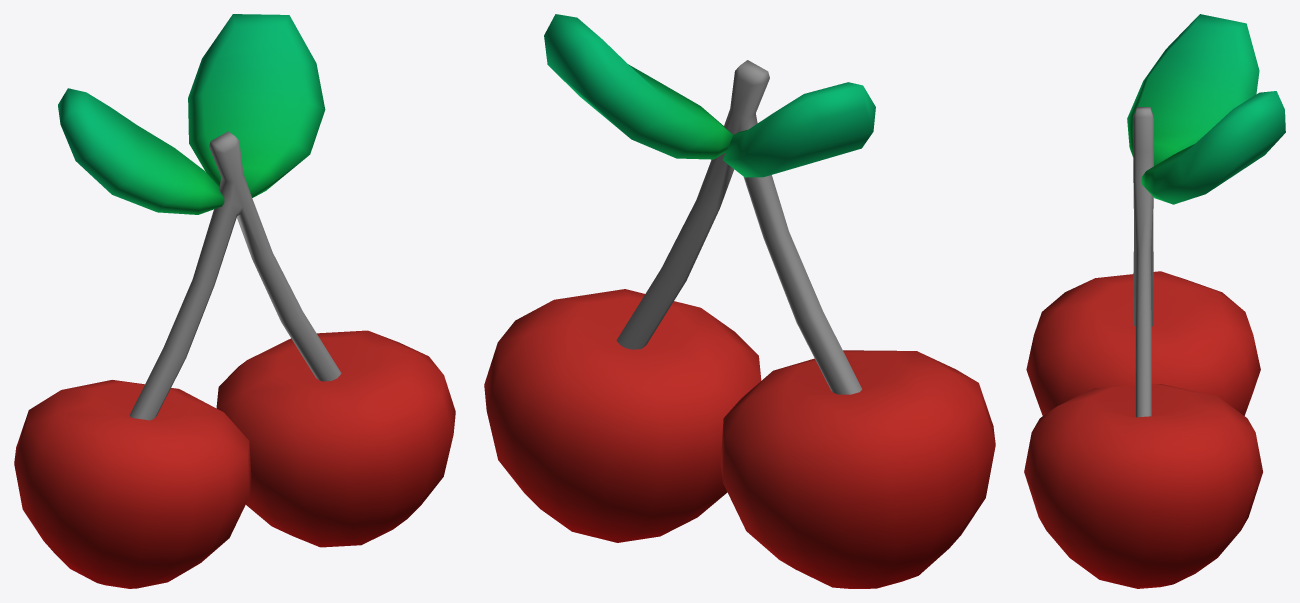
File: berries_001.fbx
3 views of the same model, side by side, from view 1: azimuth 30°, elevation 25°; view 2: azimuth 150°, elevation 25°; view 3: azimuth 270°, elevation 25° (orthographic). The views are drawn at different scales.
Parts seen in each view (by area): view 1: berries_001; view 2: berries_001; view 3: berries_001.
Boxes of the visible parts, box(x1,y1,x2,y2) form: berries_001: box(14, 14, 455, 588); berries_001: box(484, 14, 995, 588); berries_001: box(1024, 14, 1285, 588).
Size of the model in its own units: 91.39 by 51.75 by 103.
